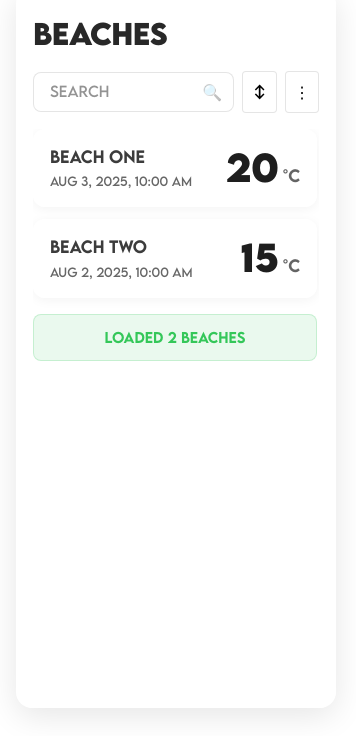
Test: HUDleftPoints Component › sorts beaches ascending and descending
Check: the heading "Beach One" is shown, box [50,146,145,167]
Note: Ascending - low to high
Click the button "↕" at {"x": 260, "y": 92}, box [242,71,277,113]
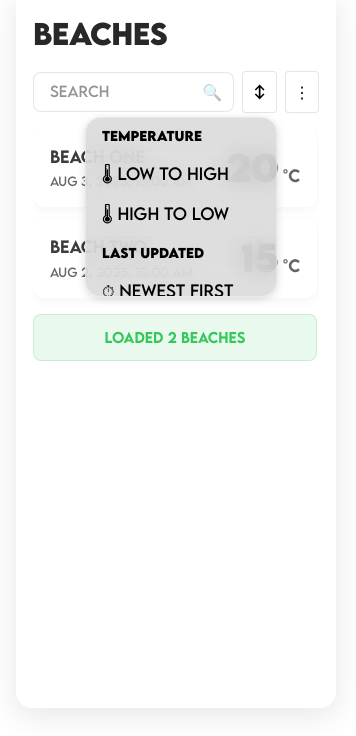
Click the button "🌡 Low to High" at {"x": 181, "y": 174}, box [86,154,276,194]
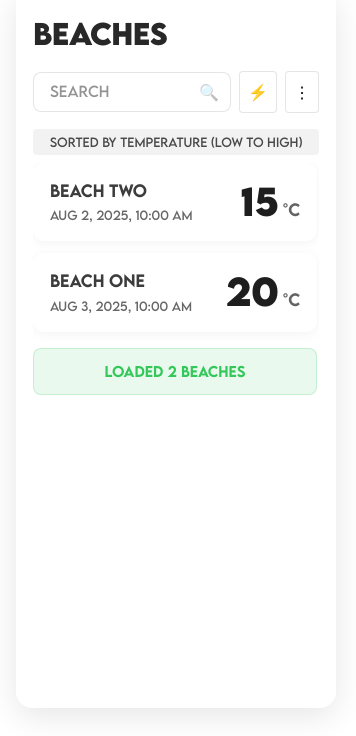
Check: the element with class "beach-item-hover" shows "Beach Two", box [50,180,147,201]
Click the button "↕" at {"x": 258, "y": 92}, box [239,71,277,113]
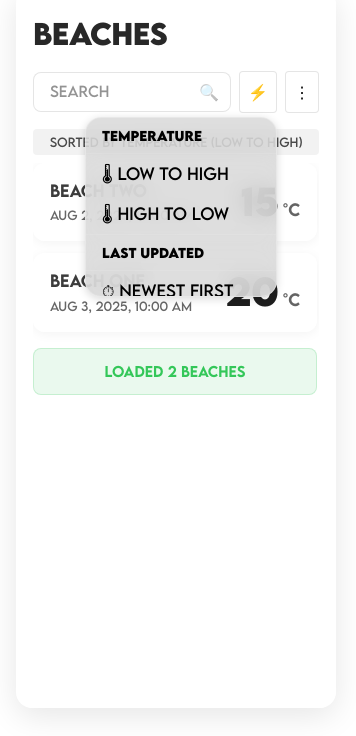
Click the button "🌡 High to Low" at {"x": 181, "y": 214}, box [86,194,276,234]
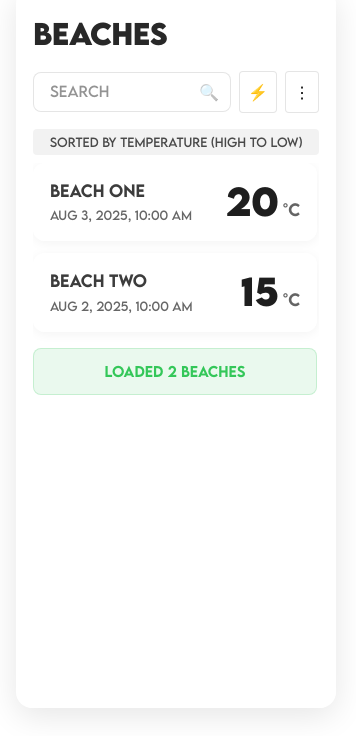
Check: the element with class "beach-item-hover" shows "Beach One", box [50,180,145,201]
